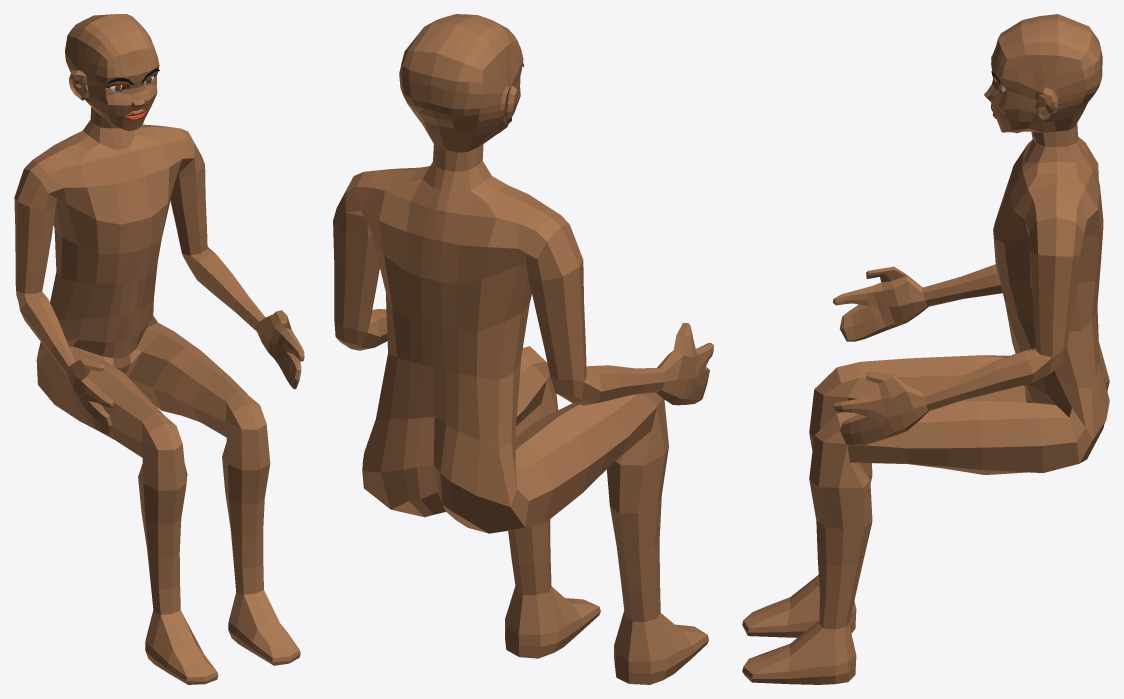
The model's file is Male_Sit.fbx.
The picture shows the model from 3 angles, left to right: view 1: azimuth 30°, elevation 25°; view 2: azimuth 150°, elevation 25°; view 3: azimuth 270°, elevation 25°; orthographic projection. The views are drawn at different scales.
Parts seen in each view (by area): view 1: Male_Sit; view 2: Male_Sit; view 3: Male_Sit.
Part boxes in pixels (left/top/right/bottom): Male_Sit: left=14, top=14, right=304, bottom=684; Male_Sit: left=333, top=14, right=713, bottom=684; Male_Sit: left=742, top=14, right=1109, bottom=684.
Size of the model in its own units: 0.3234 by 0.8093 by 0.4269.
